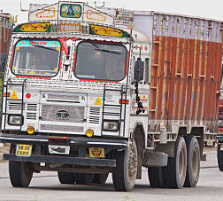truck: (1, 9, 222, 193)
